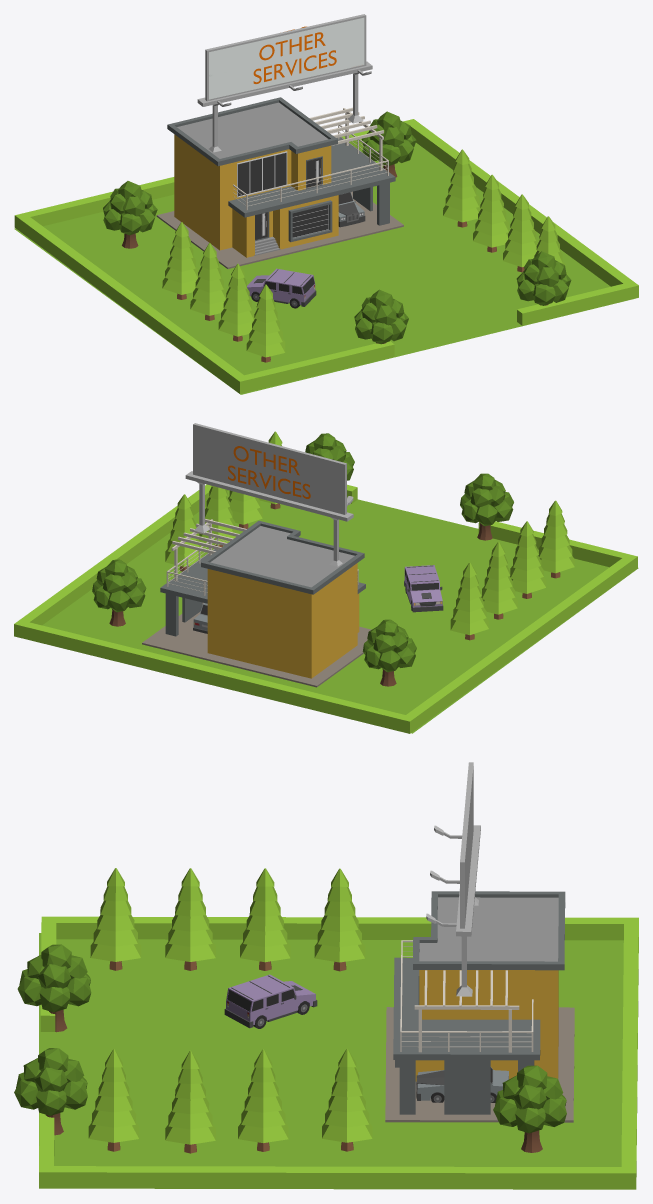
The model's file is otherservices.gltf.
3 renders of one model, top to bottom at view 1: azimuth 30°, elevation 25°; view 2: azimuth 150°, elevation 25°; view 3: azimuth 270°, elevation 25°, orthographic. The views are drawn at different scales.
Parts seen in each view (by area): view 1: Building_House_01_color01_Cube.024, Natures_Grass Tile_Plane.001, Natures_Grass Tile_Plane.010, Props_BillBoard_large_Cube.528, Natures_Grass Tile_Plane.002, Natures_Grass Tile_Plane.003, Natures_Grass Fence_Cube.004, Natures_Grass Fence_Cube.002, Natures_Grass Fence_Cube.003, Natures_Big Tree_Mesh.001, Natures_Grass Fence_Cube.001, Natures_Big Tree_Mesh.003 (+14 smaller); view 2: Building_House_01_color01_Cube.024, Natures_Grass Tile_Plane.010, Props_BillBoard_large_Cube.528, Natures_Grass Tile_Plane.002, Natures_Grass Fence_Cube.001, Natures_Grass Tile_Plane.001, Natures_Grass Tile_Plane.003, Natures_Grass Fence_Cube.004, Natures_Grass Fence_Cube.002, Natures_Big Tree_Mesh.002, Natures_Big Tree_Mesh.001, Natures_Big Tree_Mesh.008 (+11 smaller); view 3: Building_House_01_color01_Cube.024, Natures_Grass Tile_Plane.010, Natures_Grass Tile_Plane.001, Natures_Grass Tile_Plane.003, Natures_Grass Fence_Cube.002, Natures_Grass Tile_Plane.002, Natures_Grass Fence_Cube.004, Natures_Big Tree_Mesh.002, Natures_Grass Fence_Cube.001, Natures_Big Tree_Mesh.008, Natures_Big Tree_Mesh.003, Props_BillBoard_large_Cube.528 (+12 smaller).
Boxes of the visible parts, x1=… form: Building_House_01_color01_Cube.024: x1=156, y1=97, x2=403, y2=268; Natures_Grass Tile_Plane.001: x1=324, y1=217, x2=610, y2=346; Natures_Grass Tile_Plane.010: x1=128, y1=264, x2=436, y2=394; Props_BillBoard_large_Cube.528: x1=197, y1=14, x2=372, y2=152; Natures_Grass Tile_Plane.002: x1=14, y1=194, x2=323, y2=311; Natures_Grass Tile_Plane.003: x1=306, y1=143, x2=512, y2=263; Natures_Grass Fence_Cube.004: x1=14, y1=213, x2=249, y2=393; Natures_Grass Fence_Cube.002: x1=404, y1=119, x2=638, y2=298; Natures_Grass Fence_Cube.003: x1=243, y1=341, x2=394, y2=391; Natures_Big Tree_Mesh.001: x1=103, y1=181, x2=157, y2=248; Natures_Grass Fence_Cube.001: x1=25, y1=119, x2=418, y2=226; Natures_Big Tree_Mesh.003: x1=516, y1=251, x2=571, y2=305; Building_House_01_color01_Cube.024: x1=142, y1=519, x2=371, y2=687; Natures_Grass Tile_Plane.010: x1=359, y1=520, x2=638, y2=650; Props_BillBoard_large_Cube.528: x1=185, y1=423, x2=353, y2=566; Natures_Grass Tile_Plane.002: x1=234, y1=610, x2=525, y2=733; Natures_Grass Fence_Cube.001: x1=14, y1=622, x2=405, y2=732; Natures_Grass Tile_Plane.001: x1=138, y1=490, x2=442, y2=581; Natures_Grass Tile_Plane.003: x1=42, y1=556, x2=239, y2=672; Natures_Grass Fence_Cube.004: x1=400, y1=554, x2=637, y2=733; Natures_Grass Fence_Cube.002: x1=14, y1=484, x2=228, y2=626; Natures_Big Tree_Mesh.002: x1=92, y1=559, x2=146, y2=626; Natures_Big Tree_Mesh.001: x1=362, y1=619, x2=416, y2=686; Natures_Big Tree_Mesh.008: x1=460, y1=473, x2=513, y2=540; Building_House_01_color01_Cube.024: x1=385, y1=891, x2=574, y2=1122; Natures_Grass Tile_Plane.010: x1=39, y1=933, x2=337, y2=1059; Natures_Grass Tile_Plane.001: x1=39, y1=1059, x2=337, y2=1166; Natures_Grass Tile_Plane.003: x1=337, y1=1059, x2=622, y2=1166; Natures_Grass Fence_Cube.002: x1=39, y1=1166, x2=636, y2=1189; Natures_Grass Tile_Plane.002: x1=337, y1=940, x2=623, y2=1059; Natures_Grass Fence_Cube.004: x1=41, y1=916, x2=638, y2=940; Natures_Big Tree_Mesh.002: x1=493, y1=1065, x2=566, y2=1152; Natures_Grass Fence_Cube.001: x1=621, y1=921, x2=638, y2=1176; Natures_Big Tree_Mesh.008: x1=17, y1=944, x2=91, y2=1032; Natures_Big Tree_Mesh.003: x1=14, y1=1048, x2=87, y2=1135; Props_BillBoard_large_Cube.528: x1=426, y1=762, x2=480, y2=996.
Bounding box in the file's own units: 40.68 × 18.76 × 41.84.
27 materials, 25 textured.
